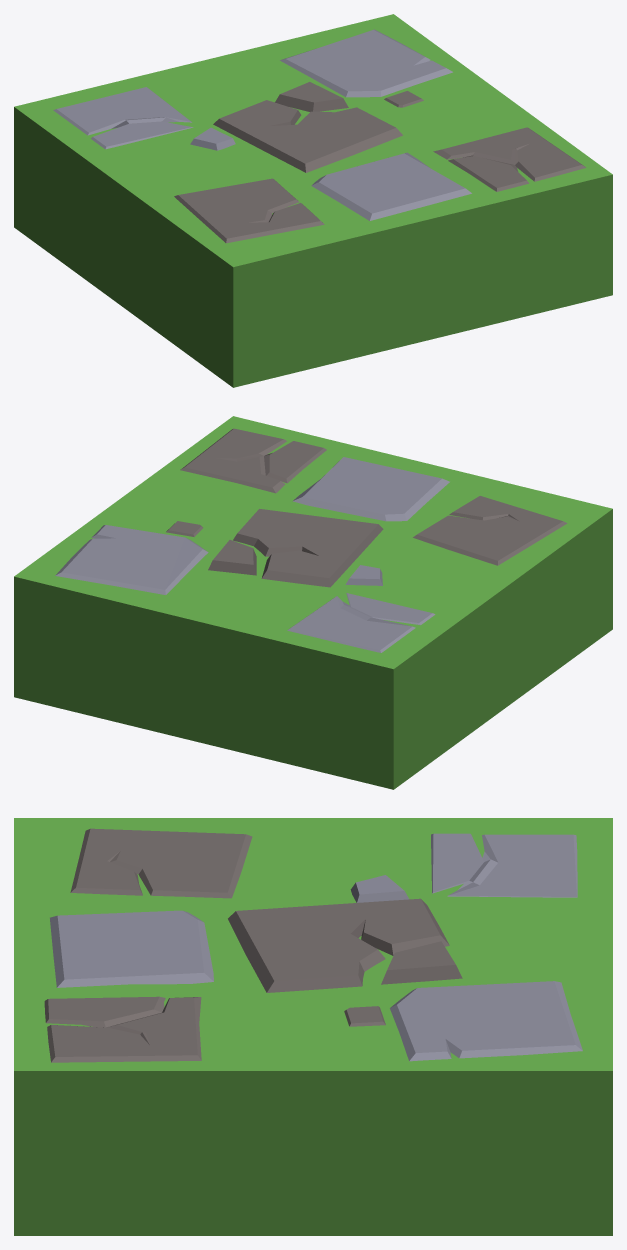
Rendered from Ground_Tiles_Large_02.FBX.
3 renders of one model, top to bottom at view 1: azimuth 30°, elevation 25°; view 2: azimuth 150°, elevation 25°; view 3: azimuth 270°, elevation 25°, orthographic. The views are drawn at different scales.
Visible parts, largest first — view 1: Ground_Tiles_Large_02; view 2: Ground_Tiles_Large_02; view 3: Ground_Tiles_Large_02.
Boxes of the visible parts, <box> form: Ground_Tiles_Large_02: <box>14,14,612,387</box>; Ground_Tiles_Large_02: <box>14,416,612,789</box>; Ground_Tiles_Large_02: <box>14,818,612,1235</box>.
Bounding box in the file's own units: 100 × 32.6 × 100.
